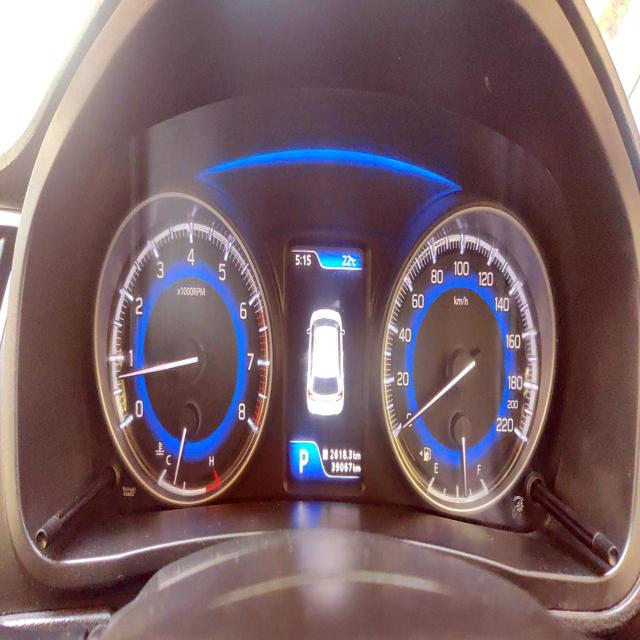odometer: (329, 459, 355, 474)
